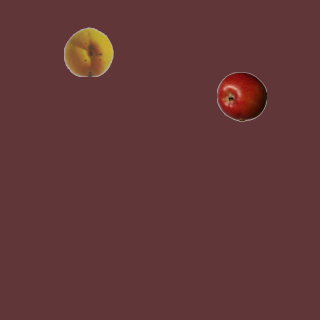Apple Braeburn: (216, 71, 266, 121)
Peach 2: (63, 26, 113, 76)
